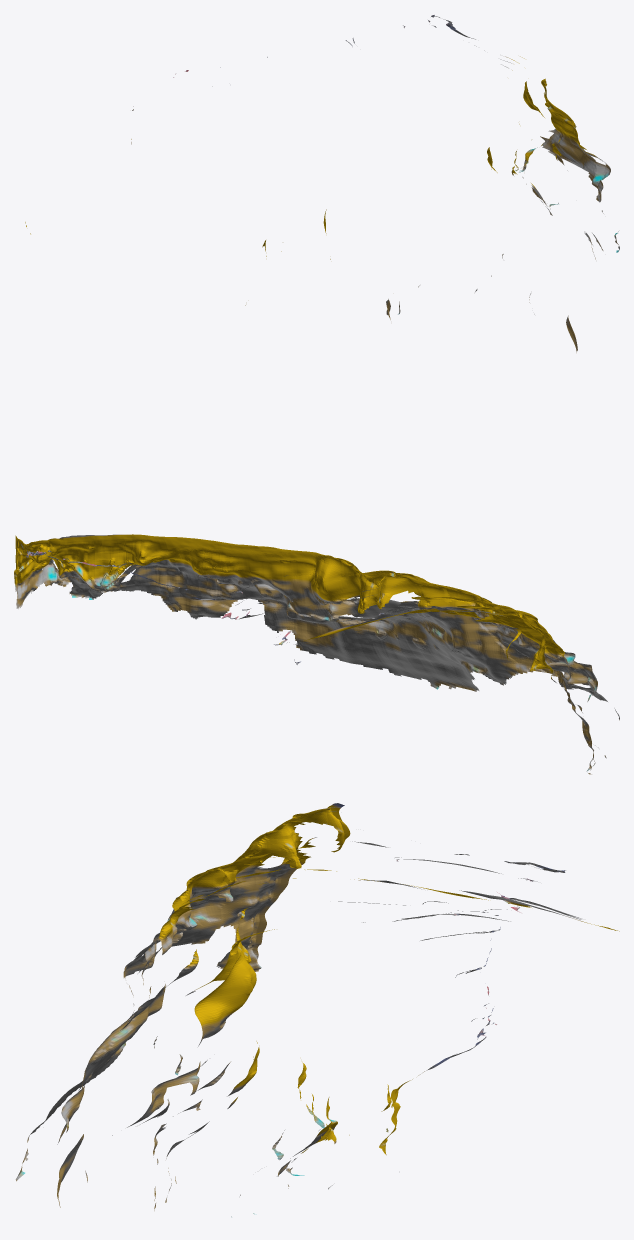
The model's file is segmented.glb.
3 views of the same model, one above another, from view 1: azimuth 30°, elevation 25°; view 2: azimuth 150°, elevation 25°; view 3: azimuth 270°, elevation 25° (orthographic). The views are drawn at different scales.
Visible parts, largest first — view 1: geometry_0; view 2: geometry_0; view 3: geometry_0.
Part boxes in pixels (x1,y1,x2,y2): geometry_0: [25, 15, 619, 352]; geometry_0: [14, 534, 619, 774]; geometry_0: [15, 803, 619, 1217].
Size of the model in its own units: 1.33 by 0.5586 by 1.1.
